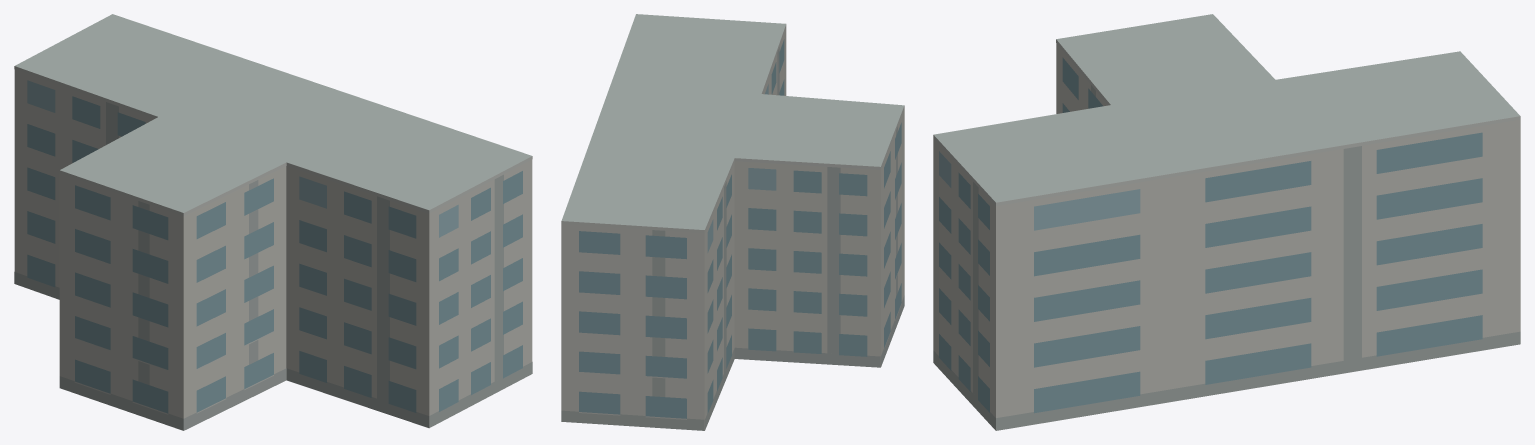
Rendered from survey-upis-32859885.glb.
3 views of the same model, side by side, from view 1: azimuth 30°, elevation 25°; view 2: azimuth 150°, elevation 25°; view 3: azimuth 270°, elevation 25° (orthographic). The views are drawn at different scales.
Parts seen in each view (by area): view 1: survey-upis-32859885.tmp; view 2: survey-upis-32859885.tmp; view 3: survey-upis-32859885.tmp.
Part boxes in pixels (x1,y1,x2,y2): survey-upis-32859885.tmp: (14, 14, 532, 430); survey-upis-32859885.tmp: (561, 14, 904, 430); survey-upis-32859885.tmp: (933, 14, 1520, 430).
Bounding box in the file's own units: 27.05 × 15.25 × 35.57.
